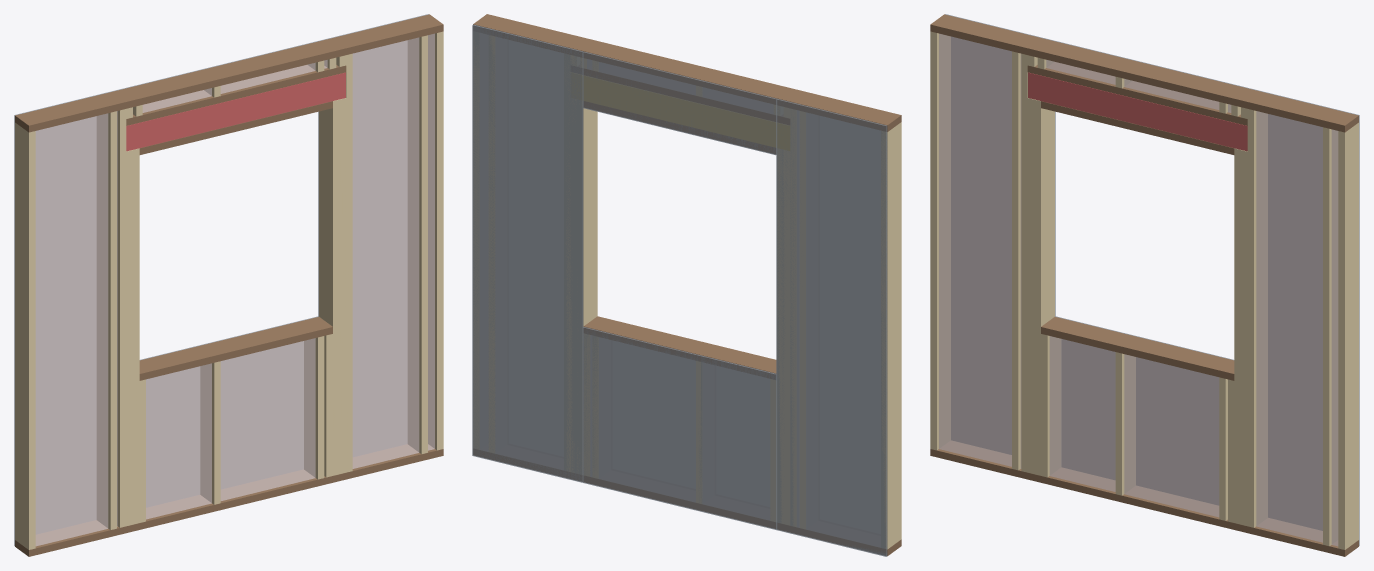
3 renders of one model, left to right at view 1: azimuth 30°, elevation 25°; view 2: azimuth 150°, elevation 25°; view 3: azimuth 330°, elevation 25°, orthographic.
Visible parts, largest first — view 1: EX5 GF; view 2: EX5 GF; view 3: EX5 GF.
Boxes of the visible parts, left/top/right/bottom form: EX5 GF: left=14, top=14, right=443, bottom=556; EX5 GF: left=472, top=14, right=901, bottom=556; EX5 GF: left=930, top=14, right=1359, bottom=556.
Bounding box in the file's own units: 2.4 × 2.39 × 0.149.
